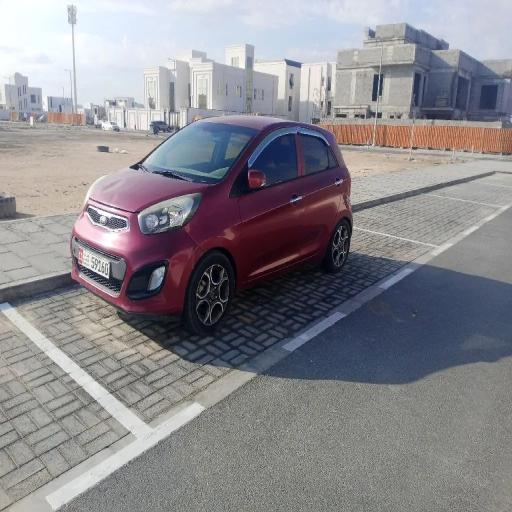license-plates: (78, 246, 110, 279)
